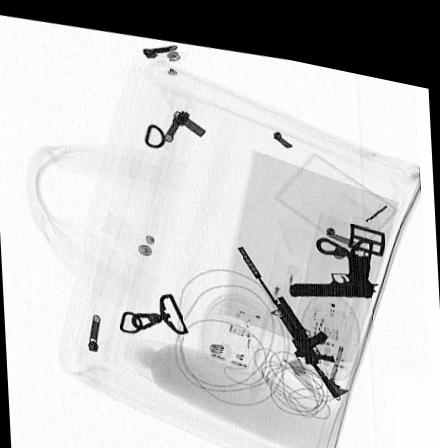Gun: (236, 235, 349, 384), (288, 238, 379, 285)
